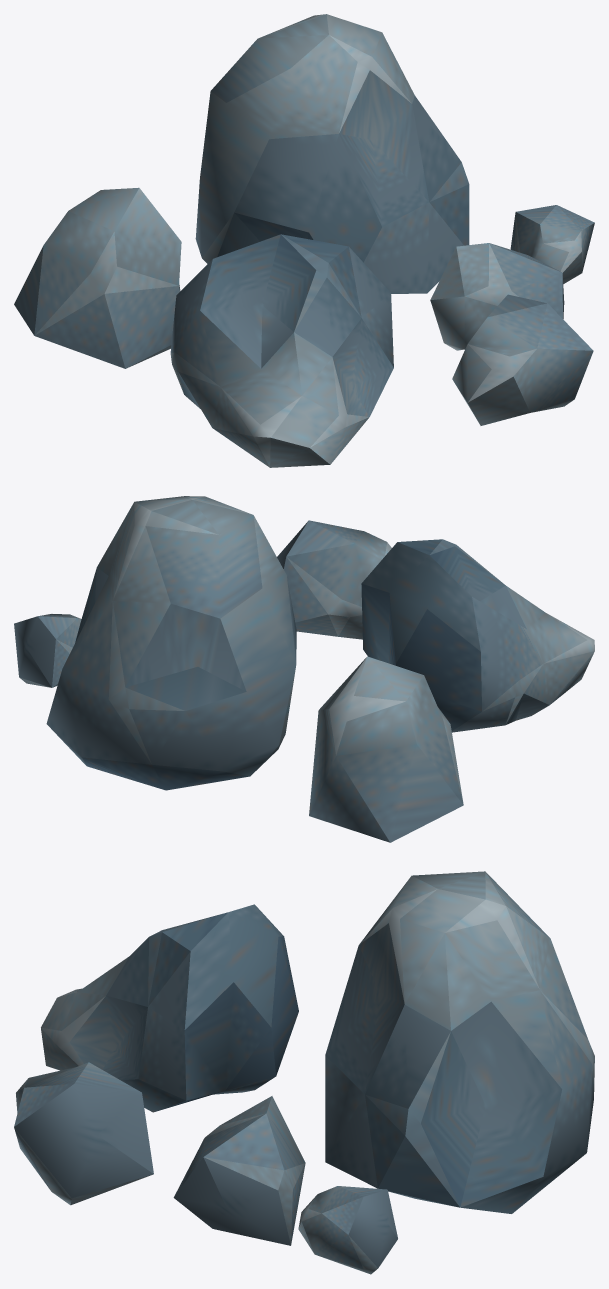
The model's file is Iron_Nuggets.gltf.
3 renders of one model, top to bottom at view 1: azimuth 30°, elevation 25°; view 2: azimuth 150°, elevation 25°; view 3: azimuth 270°, elevation 25°, orthographic. The views are drawn at different scales.
Visible parts, largest first — view 1: Iron_Nuggets; view 2: Iron_Nuggets; view 3: Iron_Nuggets.
Boxes of the visible parts, box(x1,y1,x2,y2) form: Iron_Nuggets: box(14, 14, 594, 467); Iron_Nuggets: box(14, 496, 594, 842); Iron_Nuggets: box(14, 871, 594, 1274).
Bounding box in the file's own units: 0.9288 × 0.4749 × 0.8501.
Materials: 1 (1 with a texture image).
